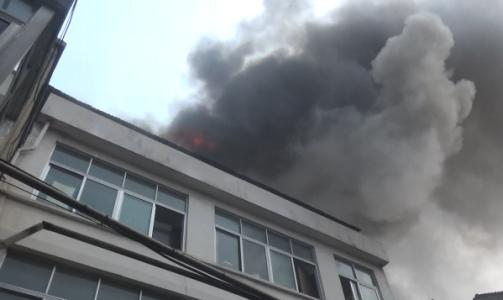smoke: (206, 29, 495, 182)
